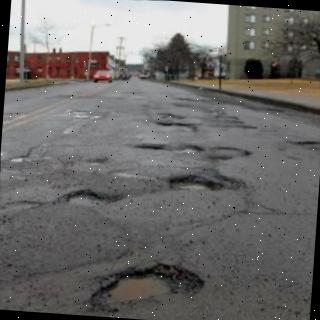pothole: (91, 262, 203, 311), (167, 170, 242, 193), (63, 189, 123, 207)
